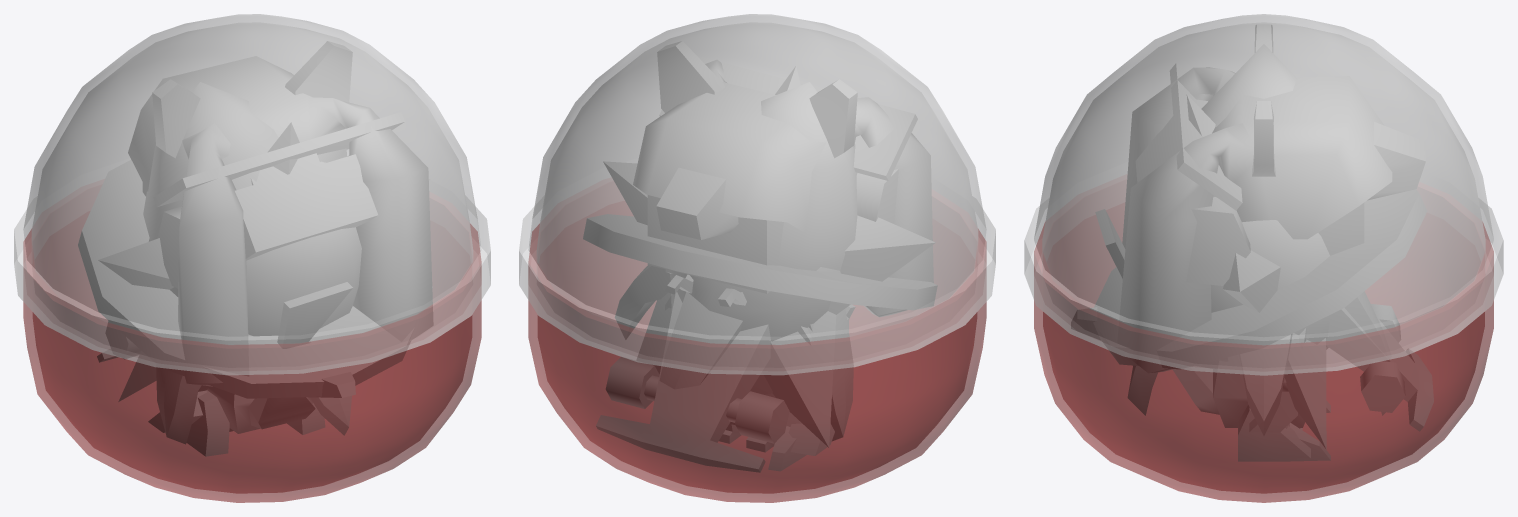
The model's file is Objective_Collectables.fbx.
3 renders of one model, left to right at view 1: azimuth 30°, elevation 25°; view 2: azimuth 150°, elevation 25°; view 3: azimuth 270°, elevation 25°, orthographic.
Visible parts, largest first — view 1: Capsule, Anime_Girl, Hat, Racecar, Rat, Rocket, Star, Dinosaur; view 2: Capsule, Anime_Girl, Rocket, Racecar, Star, Hat, Rat, Dinosaur; view 3: Capsule, Anime_Girl, Hat, Racecar, Rocket, Rat, Star, Dinosaur.
Boxes of the visible parts, <box> form: Capsule: <box>14,14,490,502</box>; Anime_Girl: <box>128,56,432,431</box>; Hat: <box>78,160,413,398</box>; Racecar: <box>97,112,404,362</box>; Rat: <box>152,41,352,456</box>; Rocket: <box>143,82,351,444</box>; Star: <box>98,122,429,401</box>; Dinosaur: <box>148,372,355,432</box>; Capsule: <box>519,14,995,502</box>; Anime_Girl: <box>633,60,933,452</box>; Rocket: <box>615,82,856,440</box>; Racecar: <box>596,56,917,472</box>; Star: <box>603,66,935,447</box>; Hat: <box>583,214,937,309</box>; Rat: <box>657,41,857,470</box>; Dinosaur: <box>656,168,848,455</box>; Capsule: <box>1024,14,1503,502</box>; Anime_Girl: <box>1118,67,1391,429</box>; Hat: <box>1094,189,1426,368</box>; Racecar: <box>1136,63,1433,431</box>; Rocket: <box>1128,44,1391,435</box>; Rat: <box>1095,24,1330,461</box>; Star: <box>1187,95,1326,449</box>; Dinosaur: <box>1071,122,1425,457</box>.
Bounding box in the file's own units: 20.82 × 20 × 20.82.
